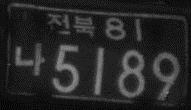1: (93, 45, 105, 96), (133, 17, 143, 43)
5: (51, 43, 79, 92)
8: (117, 49, 146, 99), (104, 16, 126, 40)
9: (152, 51, 181, 101)
나: (13, 40, 46, 78)
전북_O: (46, 12, 96, 38)
